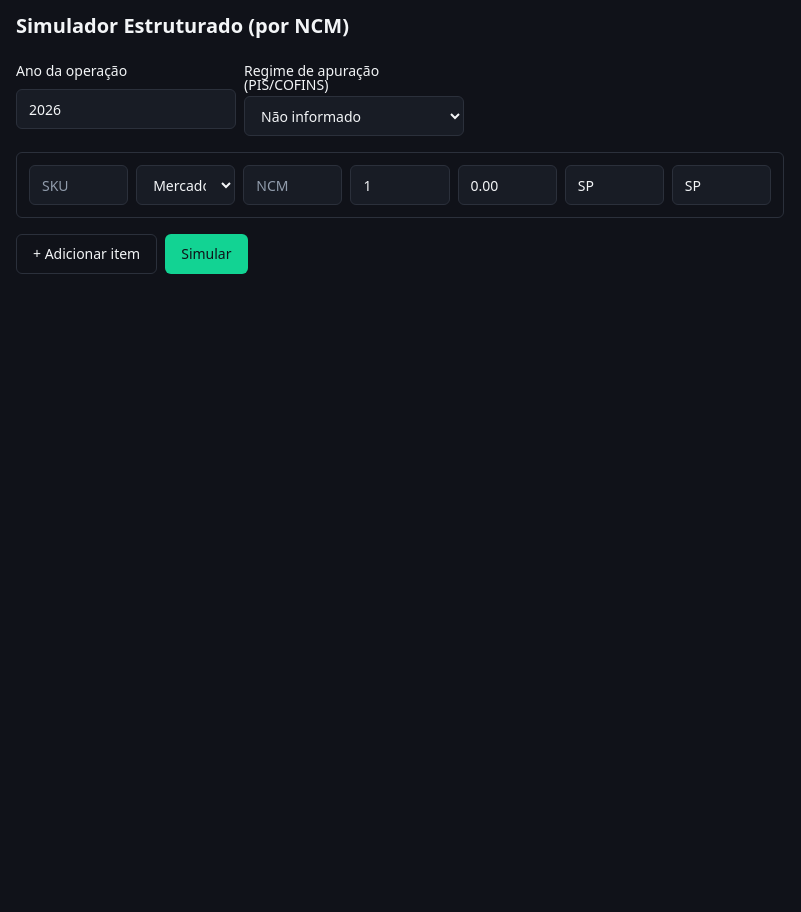
Test: SimuladorPage › AT-001: happy path exibe resumo_financeiro e itens_detalhados reais
Click the button "Simular".
click(206, 254)  # box [165,234,248,274]
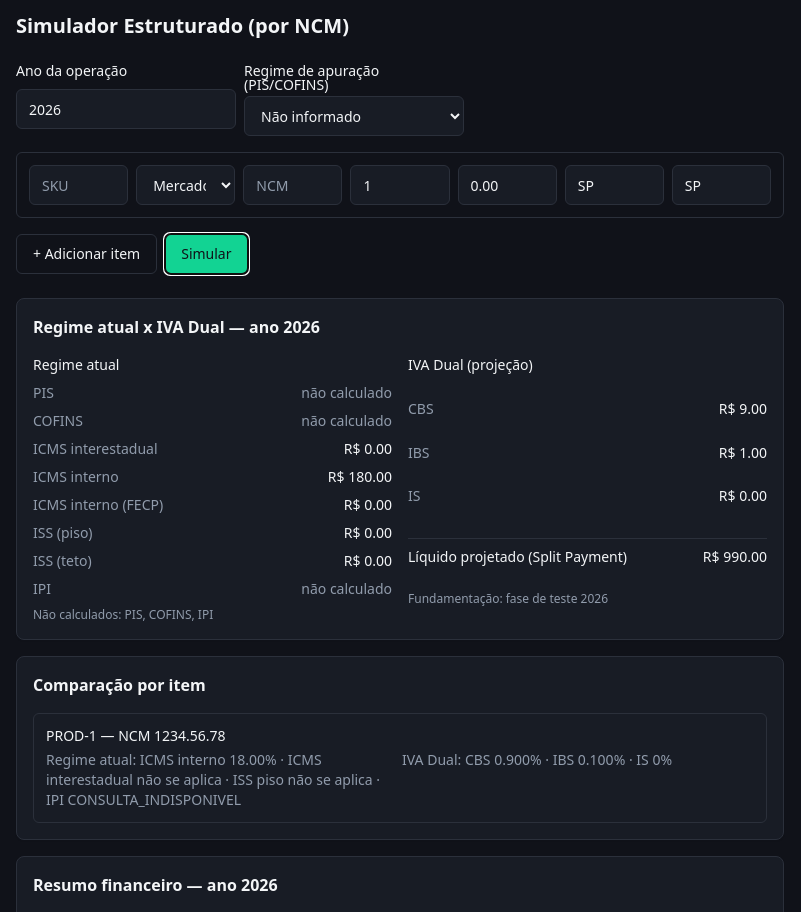
Check: the text "R$ 990.00" is shown, box [703,547,767,566]
Check: the text "PROD-1 — NCM 1234.56.78" is shown, box [46,726,226,745]
Check: the text "Fundamentação: fase de teste 2026" is shown, box [408,590,608,607]
